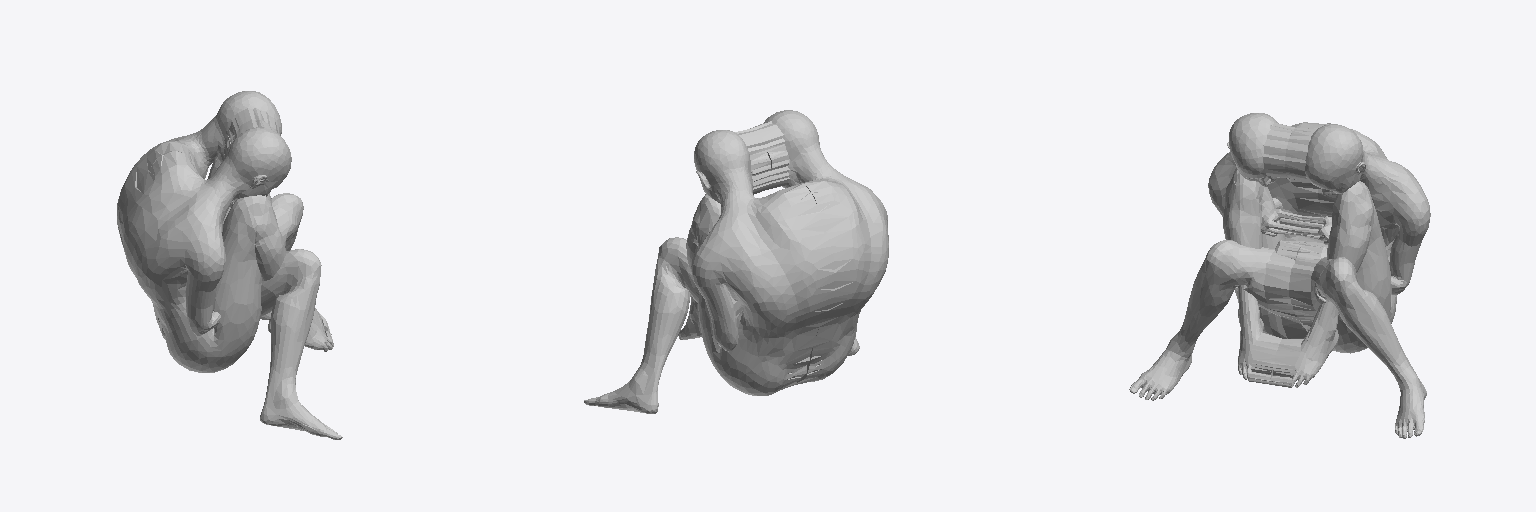
The model's file is serhibrido_.obj.
3 renders of one model, left to right at view 1: azimuth 30°, elevation 25°; view 2: azimuth 150°, elevation 25°; view 3: azimuth 270°, elevation 25°, orthographic.
Parts seen in each view (by area): view 1: HG_Body; view 2: HG_Body; view 3: HG_Body.
Part boxes in pixels (bbox=[...]): HG_Body: bbox=[117, 91, 342, 439]; HG_Body: bbox=[584, 110, 888, 413]; HG_Body: bbox=[1129, 113, 1430, 438].
Bounding box in the file's own units: 1.69 × 1.94 × 1.92.